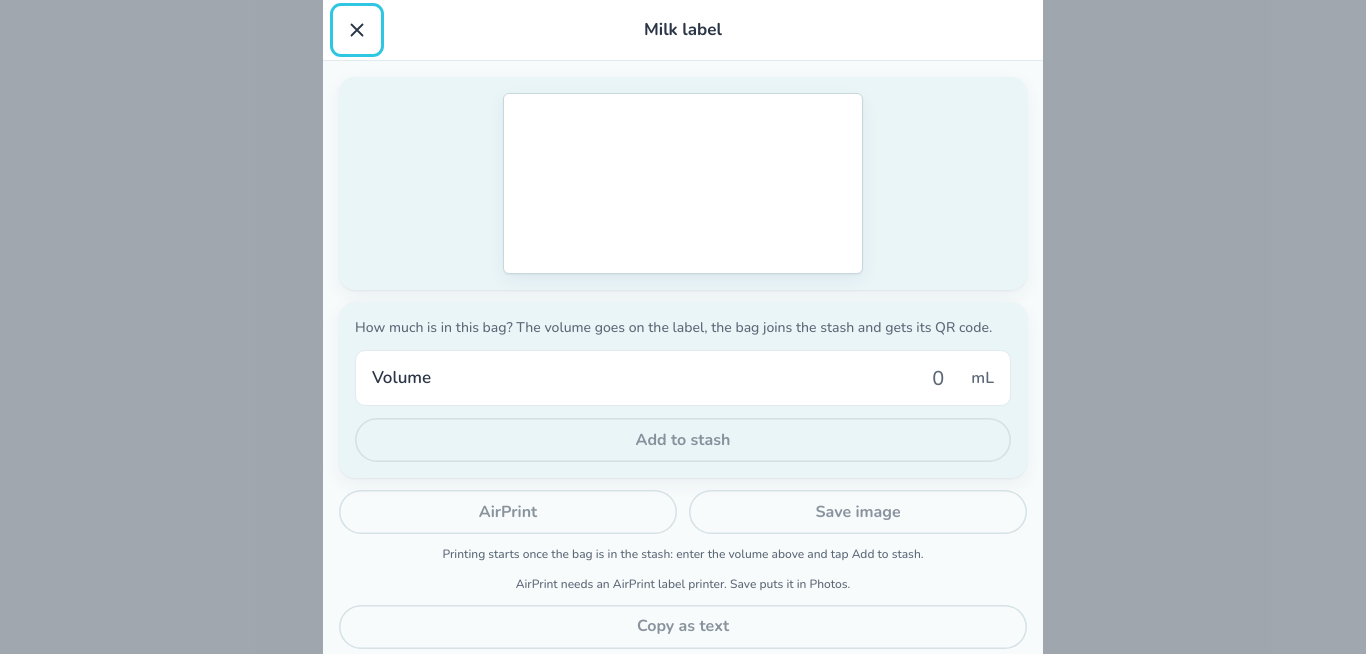
Test: MilkLabelSheet: volume typed in the label sheet (pumping path) › registers the bag with the whole volume the owner typed, not the first keystroke
The width and height of the screenshot is (1366, 654).
Type "1" into the number field named "Volume in mL" at x=701, y=378, box [443, 354, 959, 402]
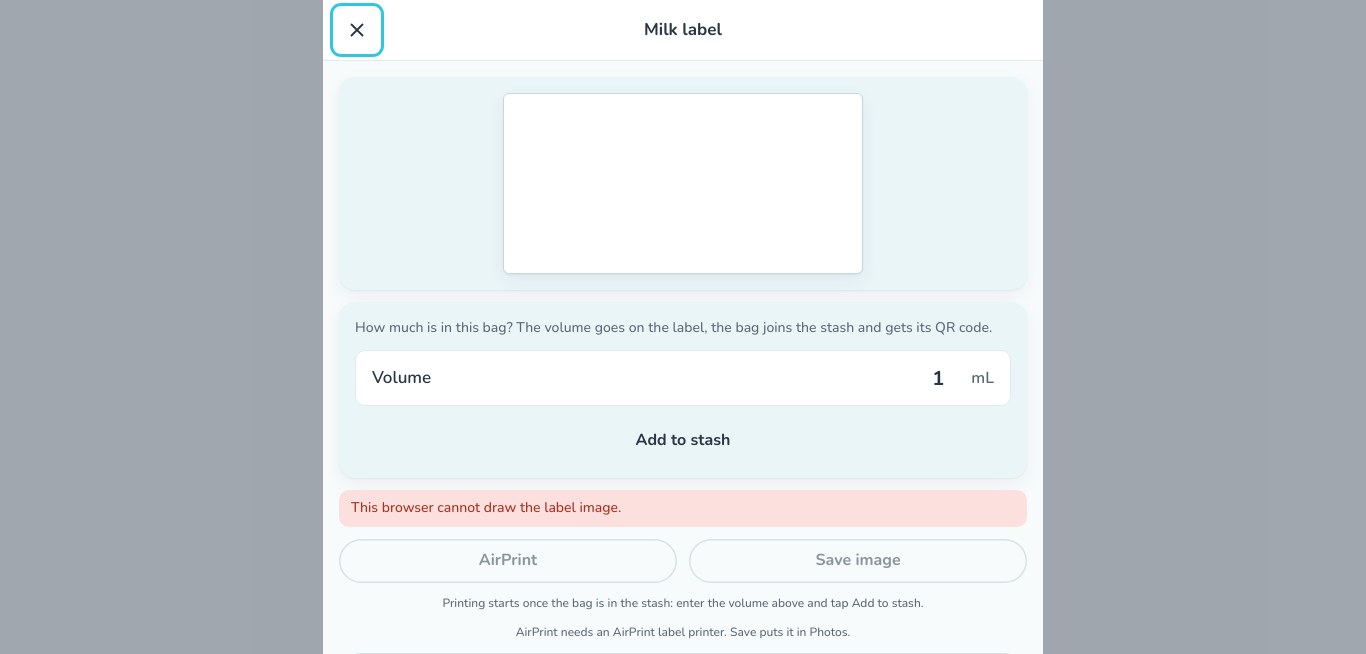
Replace the text in the number field named "Volume in mL" with "12" at x=701, y=378, box [443, 354, 959, 402]
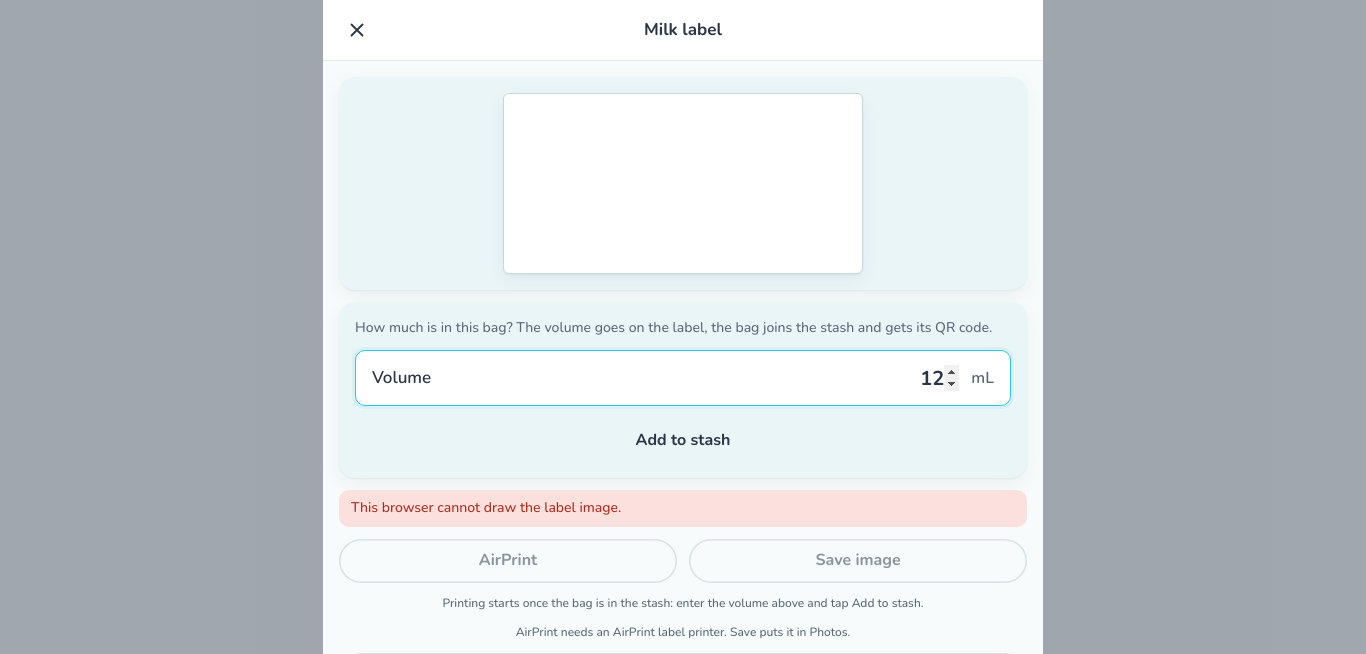
Replace the text in the number field named "Volume in mL" with "120" at x=701, y=378, box [443, 354, 959, 402]
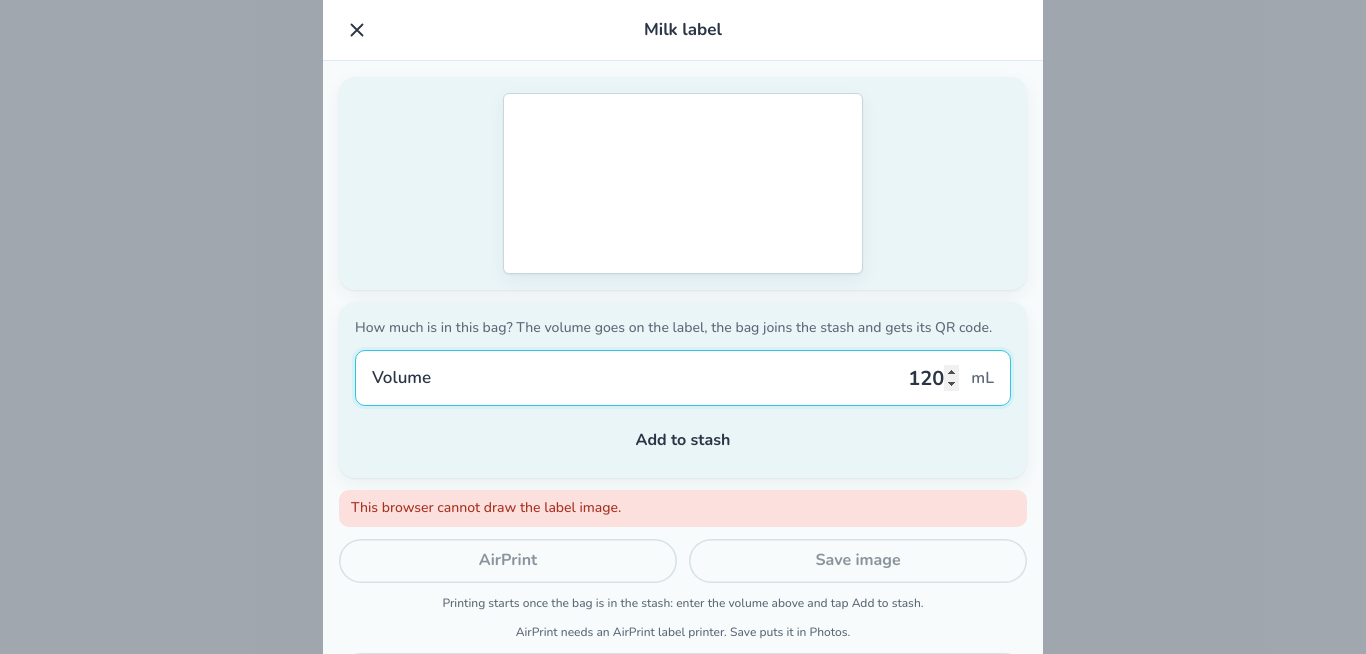
Click the button "Add to stash" at x=683, y=440, box [355, 418, 1011, 462]
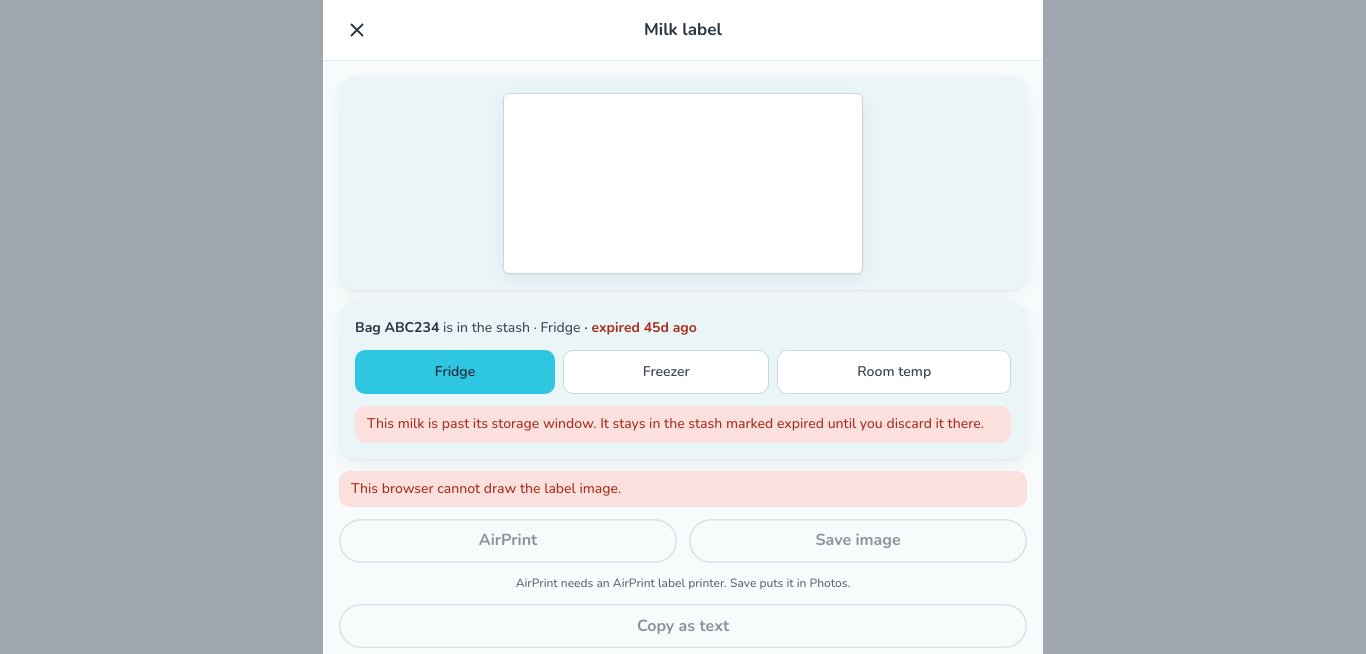
Now the text "Bag ABC234" is shown, box [355, 318, 439, 337]
